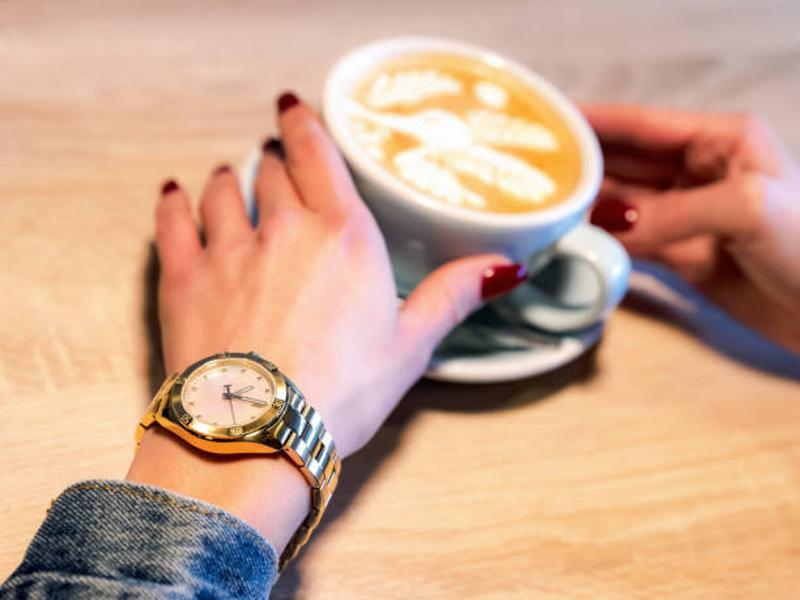watch: (124, 348, 341, 566)
